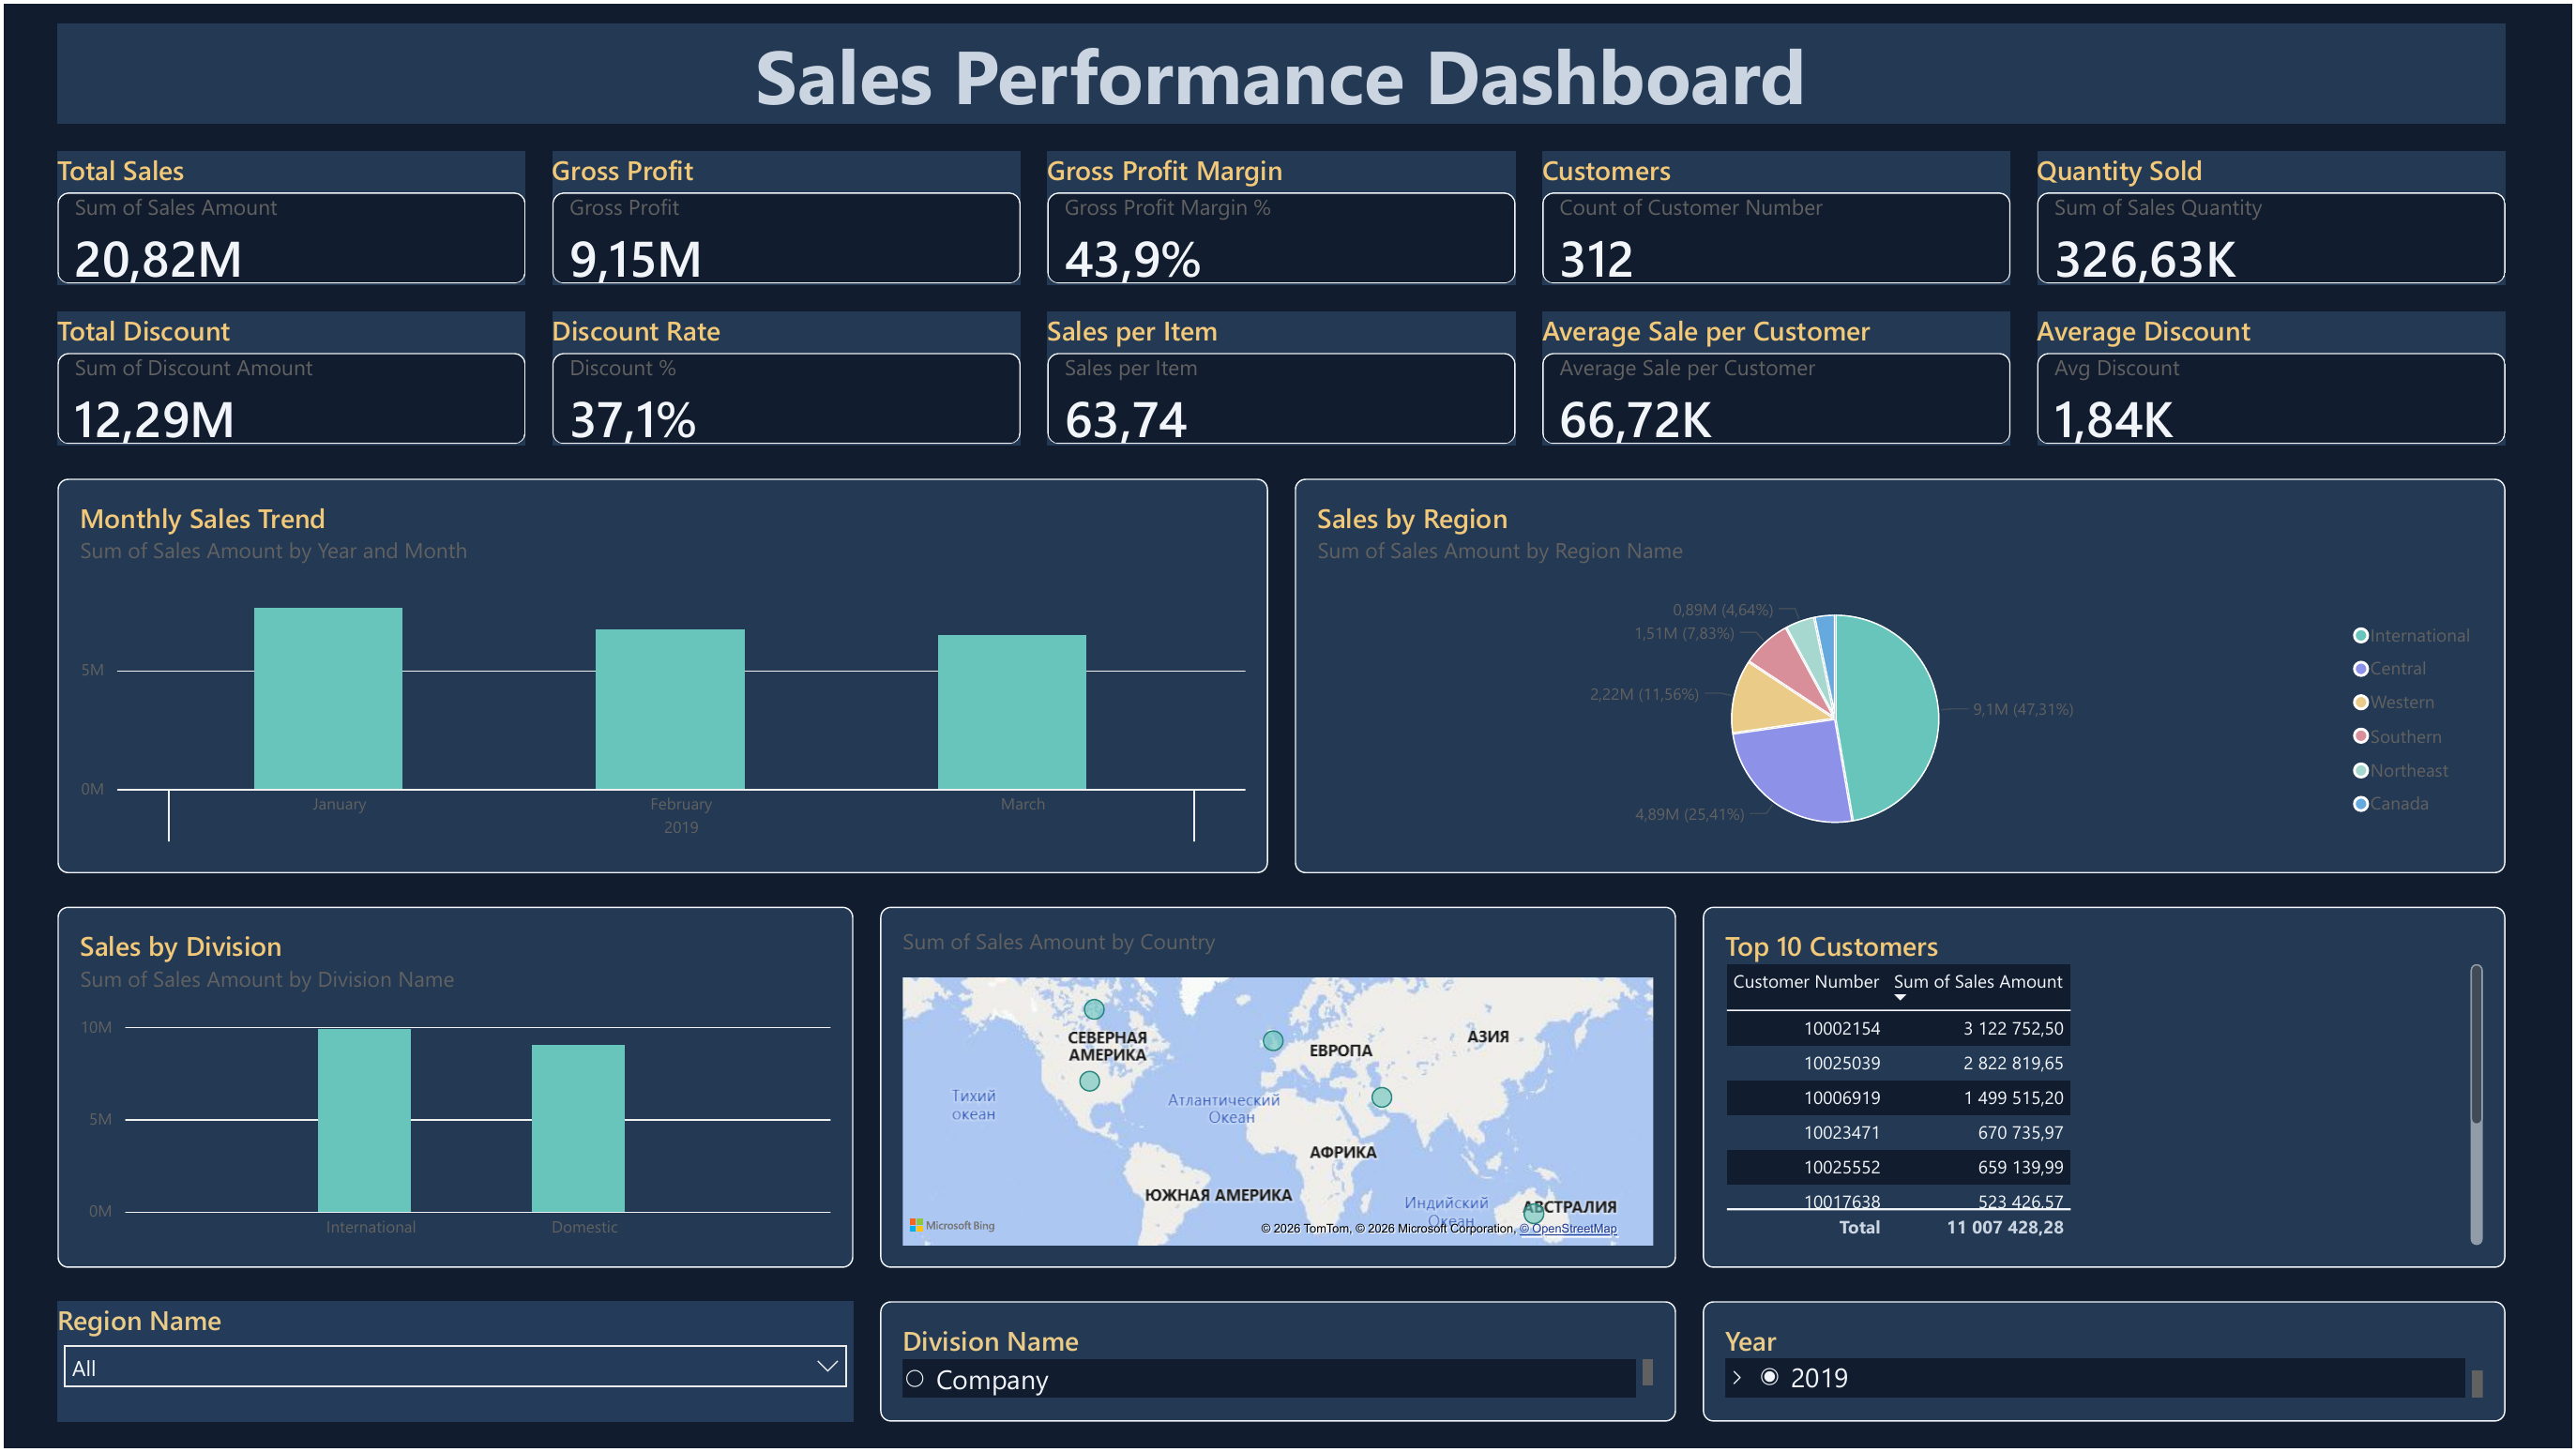

This screenshot's page, from the dashboard's own definition file:
{"tool":"powerbi","page":{"name":"Sales Overview","canvas":[1920,1080],"ordinal":0},"visuals":[{"type":"slicer","title":"Region Name","fields":{"Values":["REGION.Region Name"]},"box":[40,970,595,90],"z":0},{"type":"clusteredColumnChart","title":"Monthly Sales Trend","fields":{"Category":["Sheet1.Invoice Date.Variation.Date Hierarchy.Year","Sheet1.Invoice Date.Variation.Date Hierarchy.Month"],"Y":["Sum(Sheet1.Sales Amount)"]},"box":[40,355,905,295],"z":1000},{"type":"pieChart","title":"Sales by Region","fields":{"Category":["REGION.Region Name"],"Y":["Sum(Sheet1.Sales Amount)"]},"box":[965,355,905,295],"z":2000},{"type":"clusteredColumnChart","title":"Sales by Division","fields":{"Category":["DIVISION.Division Name"],"Y":["Sum(Sheet1.Sales Amount)"]},"box":[40,675,595,270],"z":3000},{"type":"cardVisual","title":"Total Sales","fields":{"Data":["Sum(Sheet1.Sales Amount)"]},"box":[40,110,350,100],"z":4000},{"type":"cardVisual","title":"Total Discount","fields":{"Data":["Sum(Sheet1.Discount Amount)"]},"box":[40,230,350,100],"z":5000},{"type":"cardVisual","title":"Customers","fields":{"Data":["Count(Sheet1.Customer Number)"]},"box":[1150,110,350,100],"z":6000},{"type":"cardVisual","title":"Quantity Sold","fields":{"Data":["Sum(Sheet1.Sales Quantity)"]},"box":[1520,110,350,100],"z":7000},{"type":"listSlicer","fields":{"Values":["DIVISION.Division Name"]},"box":[655,970,595,90],"z":8000},{"type":"listSlicer","fields":{"Values":["Sheet1.Actual Delivery Date.Variation.Date Hierarchy.Year","Sheet1.Actual Delivery Date.Variation.Date Hierarchy.Month"]},"box":[1270,970,600,90],"z":9000},{"type":"tableEx","title":"Top 10 Customers","fields":{"Values":["Sheet1.Customer Number","Sum(Sheet1.Sales Amount)"]},"box":[1270,675,600,270],"z":10000},{"type":"cardVisual","title":"Average Sale per Customer","fields":{"Data":["Sheet1.Average Sale per Customer"]},"box":[1150,230,350,100],"z":11000},{"type":"cardVisual","title":"Discount Rate","fields":{"Data":["Sheet1.Discount %"]},"box":[410,230,350,100],"z":12000},{"type":"azureMap","title":"Sales by Country","fields":{"Category":["CUSTOMERADDRESS.Country"],"Size":["Sum(Sheet1.Sales Amount)"]},"box":[655,675,595,270],"z":13000},{"type":"cardVisual","title":"Sales per Item","fields":{"Data":["Sheet1.Sales per Item"]},"box":[780,230,350,100],"z":14000},{"type":"textbox","box":[40,15,1830,75],"z":15000},{"type":"cardVisual","title":"Average Discount","fields":{"Data":["Sheet1.Avg Discount"]},"box":[1520,230,350,100],"z":16000},{"type":"cardVisual","title":"Gross Profit","fields":{"Data":["Sheet1.Gross Profit"]},"box":[410,110,350,100],"z":17000},{"type":"cardVisual","title":"Gross Profit Margin","fields":{"Data":["Sheet1.Gross Profit Margin %"]},"box":[780,110,350,100],"z":18000}]}

Visuals, with their boxes in screenshot pixels (x1, y1, x2, y2), scaled from the page's 1920x1080 canvas onto the 2576x1452 screenshot:
"Region Name" slicer: bbox=[53, 1304, 852, 1425]
"Monthly Sales Trend" clusteredColumnChart: bbox=[53, 477, 1268, 874]
"Sales by Region" pieChart: bbox=[1295, 477, 2508, 874]
"Sales by Division" clusteredColumnChart: bbox=[53, 908, 852, 1270]
"Total Sales" cardVisual: bbox=[53, 148, 523, 282]
"Total Discount" cardVisual: bbox=[53, 310, 523, 444]
"Customers" cardVisual: bbox=[1543, 148, 2012, 282]
"Quantity Sold" cardVisual: bbox=[2039, 148, 2508, 282]
listSlicer - DIVISION.Division Name: bbox=[879, 1304, 1677, 1425]
listSlicer - Sheet1.Actual Delivery Date.Variation.Date Hierarchy.Year x Sheet1.Actual Delivery Date.Variation.Date Hierarchy.Month: bbox=[1704, 1304, 2508, 1425]
"Top 10 Customers" tableEx: bbox=[1704, 908, 2508, 1270]
"Average Sale per Customer" cardVisual: bbox=[1543, 310, 2012, 444]
"Discount Rate" cardVisual: bbox=[550, 310, 1020, 444]
"Sales by Country" azureMap: bbox=[879, 908, 1677, 1270]
"Sales per Item" cardVisual: bbox=[1047, 310, 1516, 444]
textbox: bbox=[53, 21, 2508, 121]
"Average Discount" cardVisual: bbox=[2039, 310, 2508, 444]
"Gross Profit" cardVisual: bbox=[550, 148, 1020, 282]
"Gross Profit Margin" cardVisual: bbox=[1047, 148, 1516, 282]
